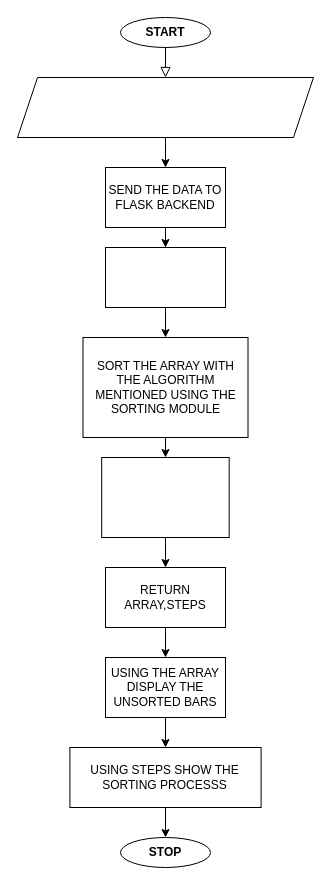
This 331x885 diagram has some shape labels left out. The centre of each missing label's shape, as x and y in pixels:
"APPEND A COPY OF ARRAY AT EACH STEP WHILE SORTING" goes at [165,497].
"GENERATE AN ARRAY" goes at [165,277].
"INPUT SIZE,ALGORITHM FOR THE ARRAY" goes at [165,107].
